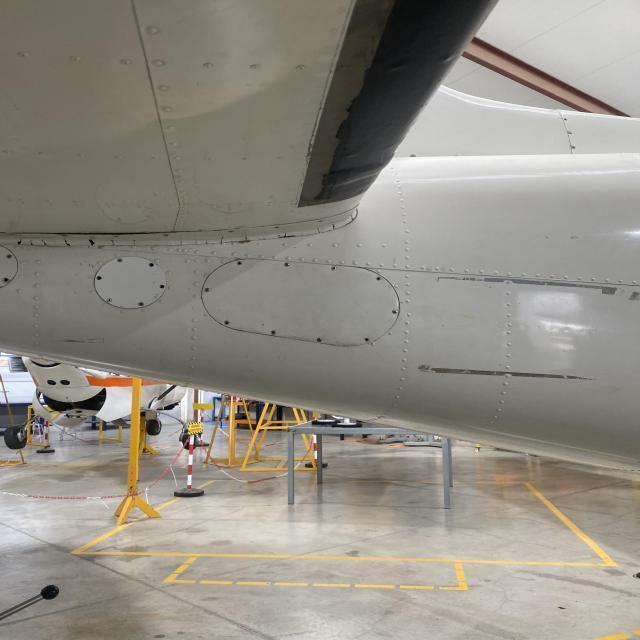Fastener Damage: (148, 262, 155, 268), (237, 261, 242, 266), (3, 278, 9, 282), (96, 276, 102, 280), (159, 285, 165, 289), (270, 330, 276, 334), (377, 277, 382, 281), (224, 320, 228, 324), (364, 338, 369, 341), (564, 118, 568, 121)
